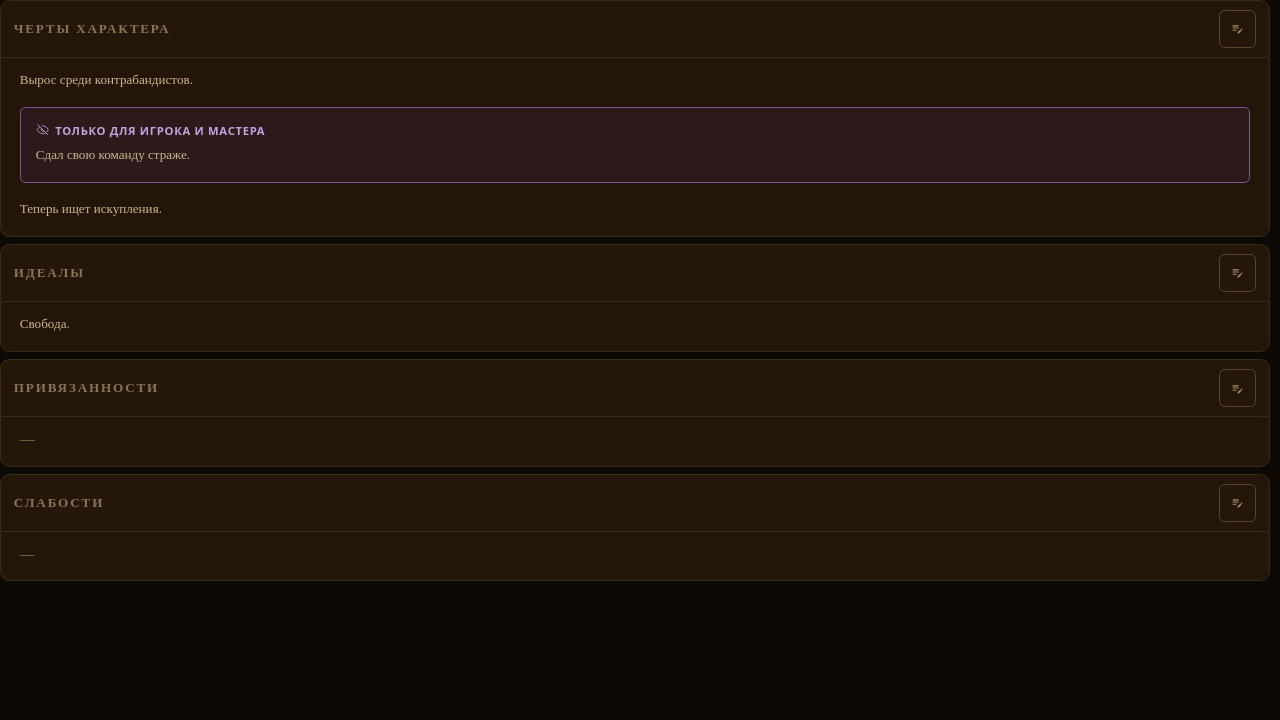
Scenario: player secrets in the character sheet › offers the secret block button and explains it while editing
Click the button named "Изменить" in the row of "Черты характера" at {"x": 1238, "y": 29}, box [1219,10,1256,48]
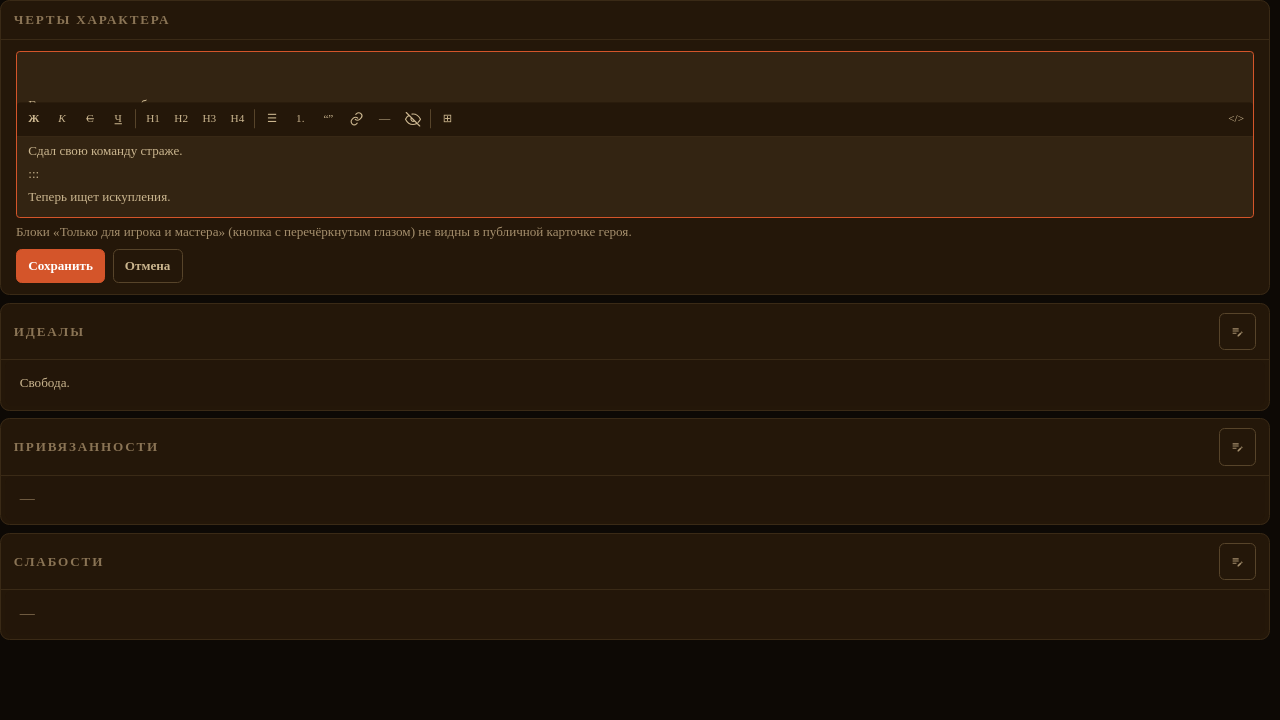
Expected: the button titled "Только для игрока и мастера: блок не попадёт в публичную карточку" is shown, [400,106,426,132]
Expected: the text "не видны в публичной карточке героя" is shown, [16,224,632,239]
